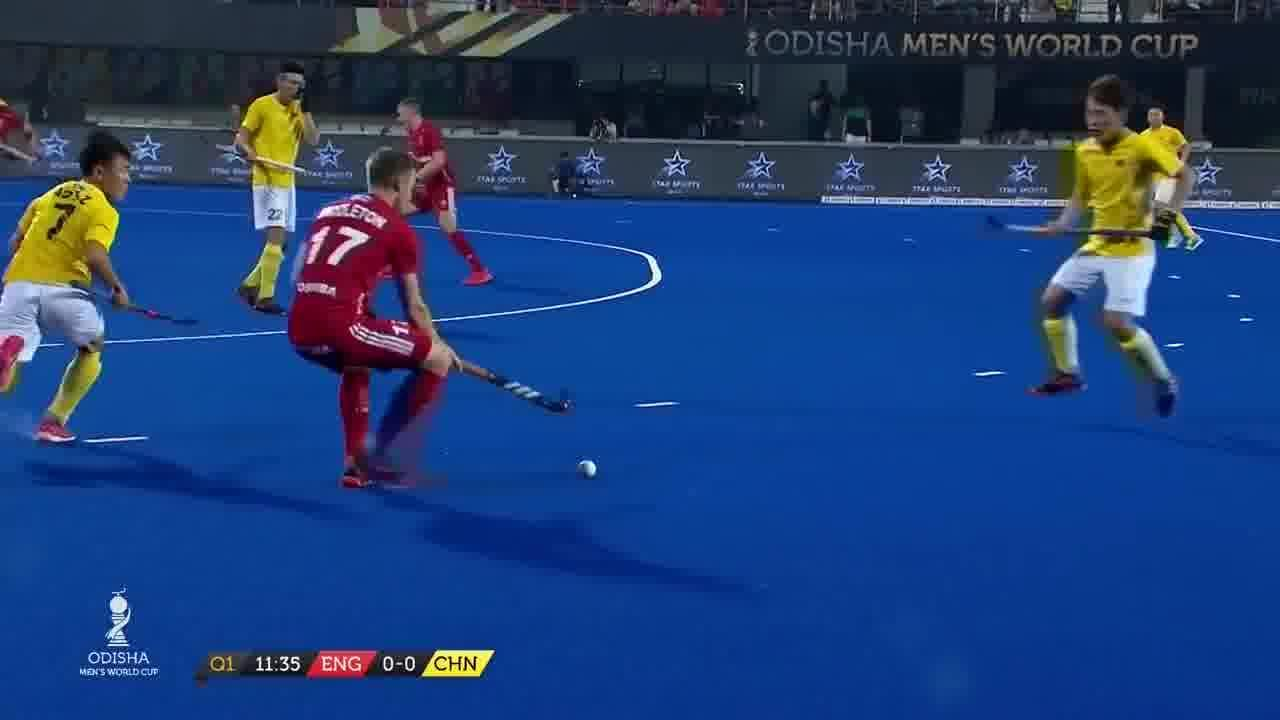ball: (574, 458, 604, 482)
